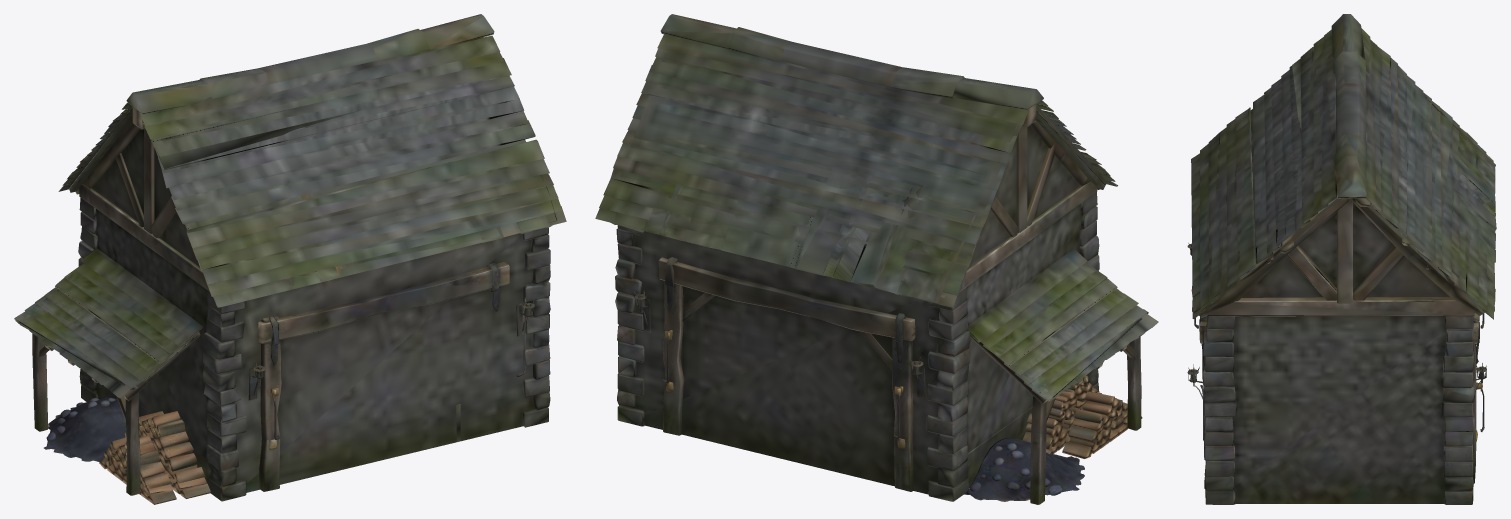
The model's file is forge.glb.
The picture shows the model from 3 angles, left to right: view 1: azimuth 30°, elevation 25°; view 2: azimuth 150°, elevation 25°; view 3: azimuth 270°, elevation 25°; orthographic projection. The views are drawn at different scales.
Visible parts, largest first — view 1: forge_p2; view 2: forge_p2; view 3: forge_p2.
Part boxes in pixels (x1,y1,x2,y2): forge_p2: (14, 14, 566, 504); forge_p2: (595, 14, 1158, 504); forge_p2: (1187, 14, 1496, 504).
Bounding box in the file's own units: 4.8 × 3.87 × 3.22.
1 material, 1 textured.
